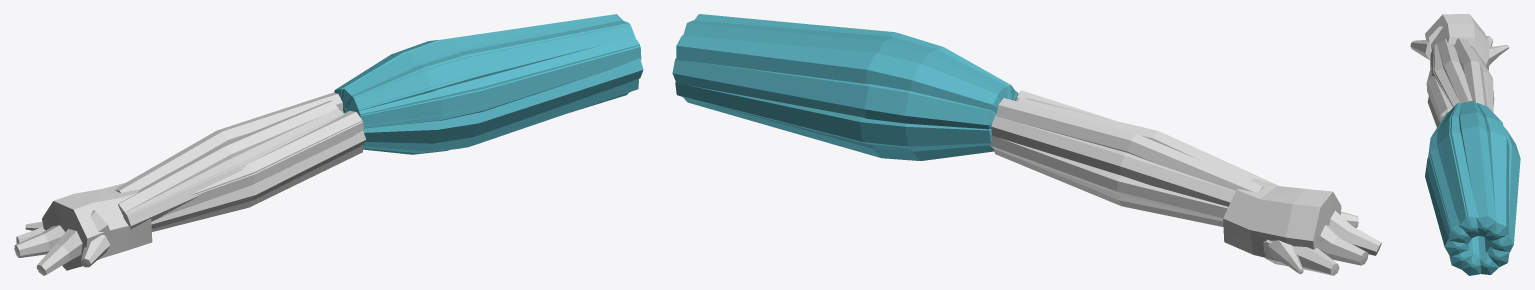
Rendered from Arm.fbx.
The picture shows the model from 3 angles, left to right: view 1: azimuth 30°, elevation 25°; view 2: azimuth 150°, elevation 25°; view 3: azimuth 270°, elevation 25°; orthographic projection. The views are drawn at different scales.
Parts seen in each view (by area): view 1: Uparm, Lowarm-1, hand; view 2: Uparm, Lowarm-1, hand; view 3: Uparm, Lowarm-1, hand.
Part boxes in pixels (box(x1,y1,x2,y2)): Uparm: box(334, 14, 643, 154); Lowarm-1: box(115, 92, 366, 231); hand: box(14, 183, 152, 275); Uparm: box(672, 14, 1018, 160); Lowarm-1: box(990, 90, 1278, 226); hand: box(1223, 178, 1381, 275); Uparm: box(1425, 100, 1520, 275); Lowarm-1: box(1426, 38, 1494, 127); hand: box(1410, 14, 1508, 70).
Bounding box in the file's own units: 0.6078 × 0.1164 × 0.1125.
